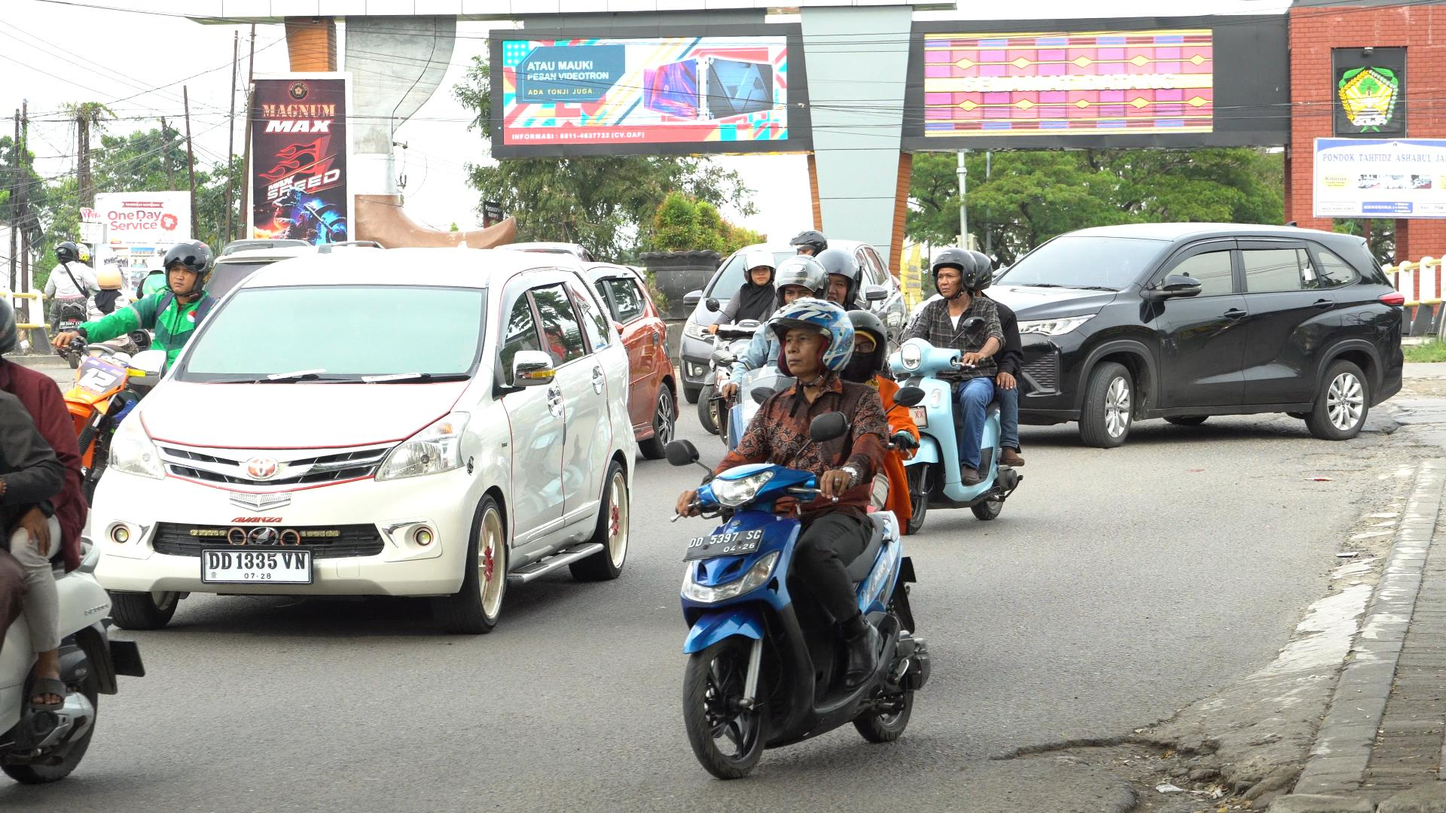number-plate: (673, 530, 762, 559)
